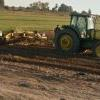Tractor: (46, 6, 100, 57)
